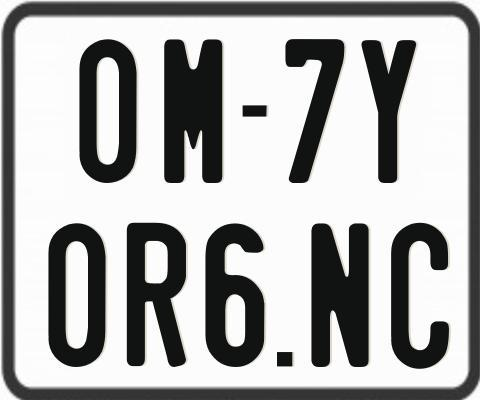0: (46, 223, 109, 369), (77, 36, 135, 186)
6: (204, 222, 267, 368)
7: (283, 38, 346, 186)
C: (391, 221, 454, 367)
M: (164, 39, 222, 187)
N: (310, 220, 374, 364)
R: (127, 221, 192, 369)
Y: (359, 37, 417, 182)
